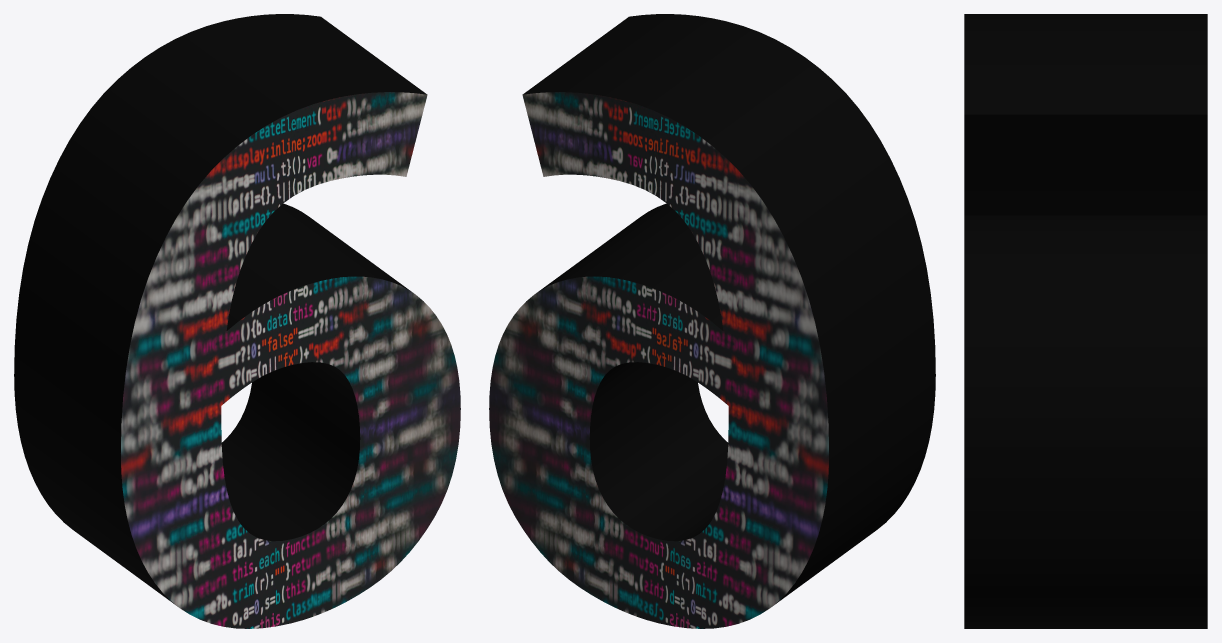
The model's file is nro6.FBX.
The picture shows the model from 3 angles, left to right: view 1: azimuth 30°, elevation 25°; view 2: azimuth 150°, elevation 25°; view 3: azimuth 270°, elevation 25°; orthographic projection. The views are drawn at different scales.
Visible parts, largest first — view 1: Text004; view 2: Text004; view 3: Text004.
Boxes of the visible parts, left/top/right/bottom form: Text004: left=14, top=14, right=460, bottom=628; Text004: left=489, top=14, right=935, bottom=628; Text004: left=964, top=14, right=1207, bottom=628.
Bounding box in the file's own units: 21.73 × 31.42 × 11.81.
